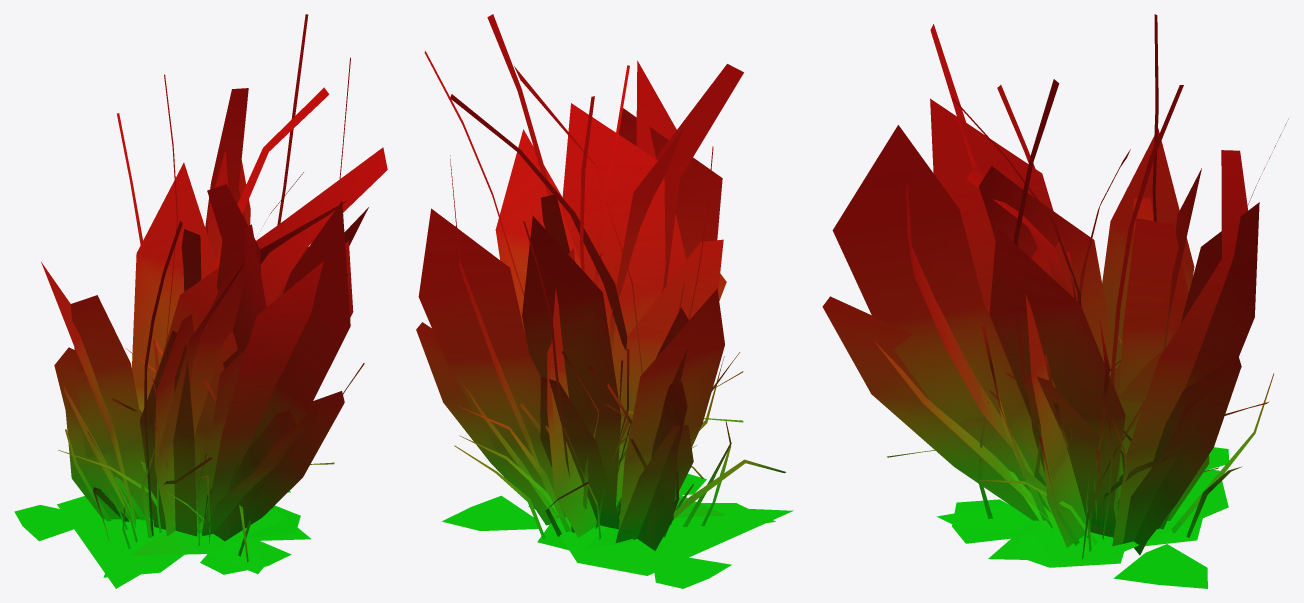
Rendered from Var6_LOD1.fbx.
The picture shows the model from 3 angles, left to right: view 1: azimuth 30°, elevation 25°; view 2: azimuth 150°, elevation 25°; view 3: azimuth 270°, elevation 25°; orthographic projection. The views are drawn at different scales.
Visible parts, largest first — view 1: _0272_Var6_LOD1; view 2: _0272_Var6_LOD1; view 3: _0272_Var6_LOD1.
Boxes of the visible parts, x1,y1,x2,y2 form: _0272_Var6_LOD1: (14,14,387,588); _0272_Var6_LOD1: (416,14,793,588); _0272_Var6_LOD1: (822,14,1288,588).
Size of the model in its own units: 17.98 by 27.06 by 21.42.
